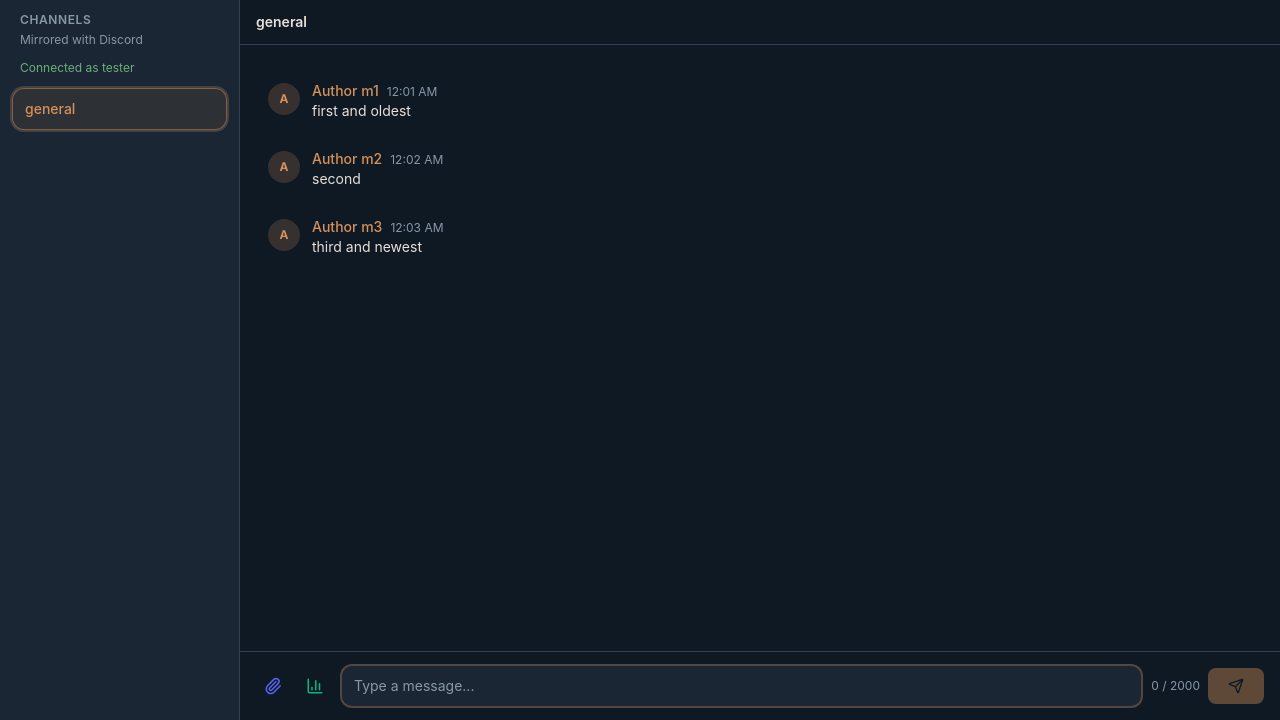
Test: CommunityPage places a delayed answer oldest first (R594) › a send answered after a live read landed a newer message is drawn before it, when the read after the answer fails
Type "just sent" into the field with placeholder "Type a message..." at x=742, y=686, box [340, 664, 1143, 708]
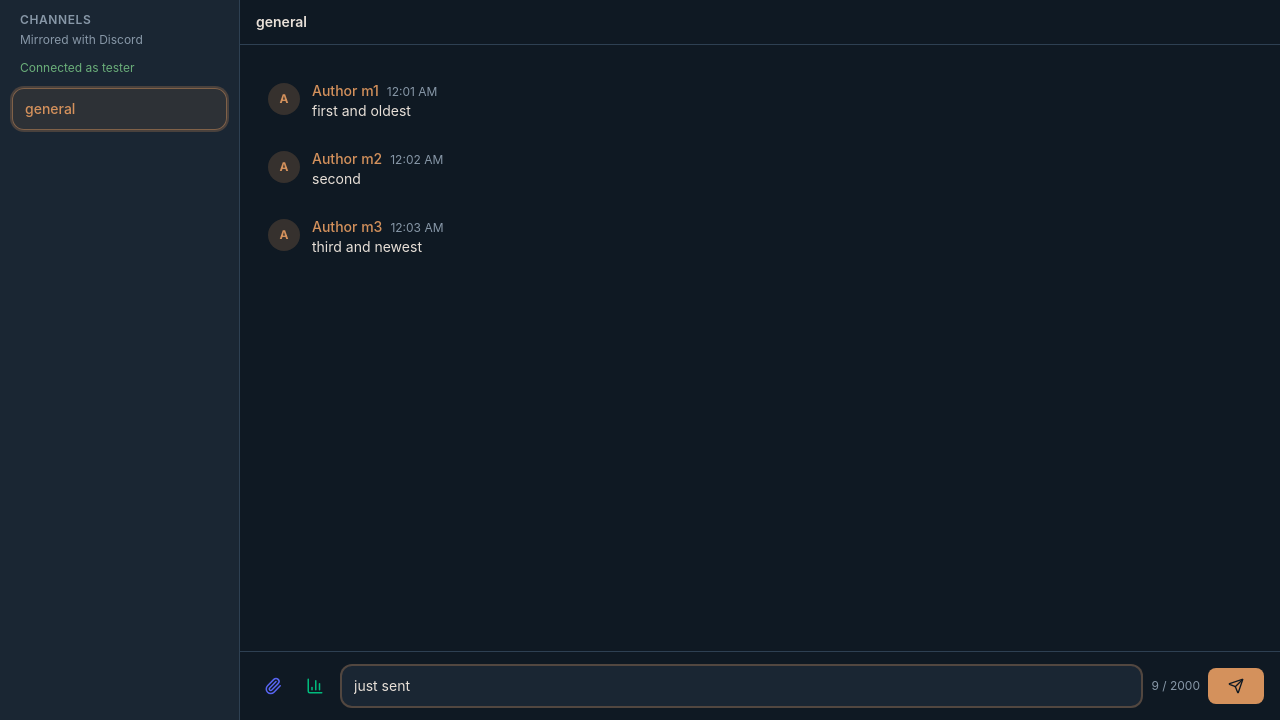
Press Enter in the field with placeholder "Type a message...", box [340, 664, 1144, 708]
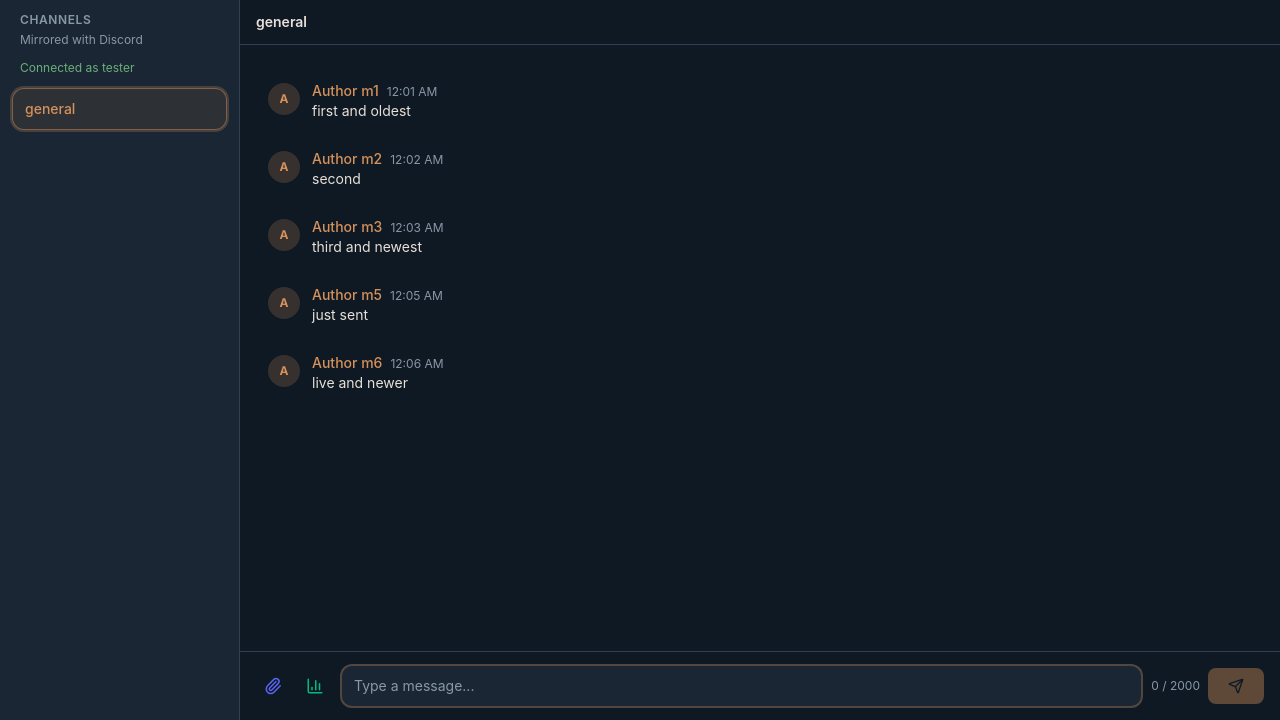
Check: the text "live and newer" is shown, box [312, 374, 408, 391]
